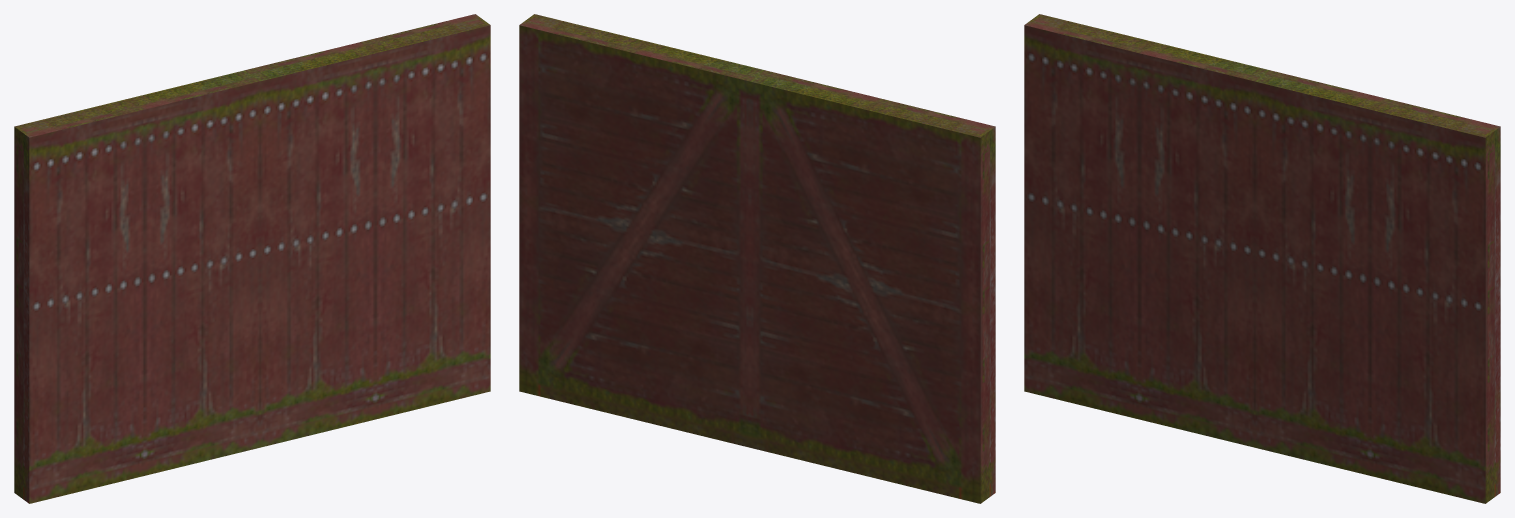
File: b_zx_yuanmenmuqiang01_lod2.FBX
3 renders of one model, left to right at view 1: azimuth 30°, elevation 25°; view 2: azimuth 150°, elevation 25°; view 3: azimuth 330°, elevation 25°, orthographic.
Parts seen in each view (by area): view 1: b_zx_yuanmenmuqiang01_lod2; view 2: b_zx_yuanmenmuqiang01_lod2; view 3: b_zx_yuanmenmuqiang01_lod2.
Part boxes in pixels (box(x1,y1,x2,y2)): b_zx_yuanmenmuqiang01_lod2: box(14, 14, 490, 503); b_zx_yuanmenmuqiang01_lod2: box(519, 14, 995, 503); b_zx_yuanmenmuqiang01_lod2: box(1024, 14, 1500, 503).
Bounding box in the file's own units: 5.29 × 4.02 × 0.3043.
